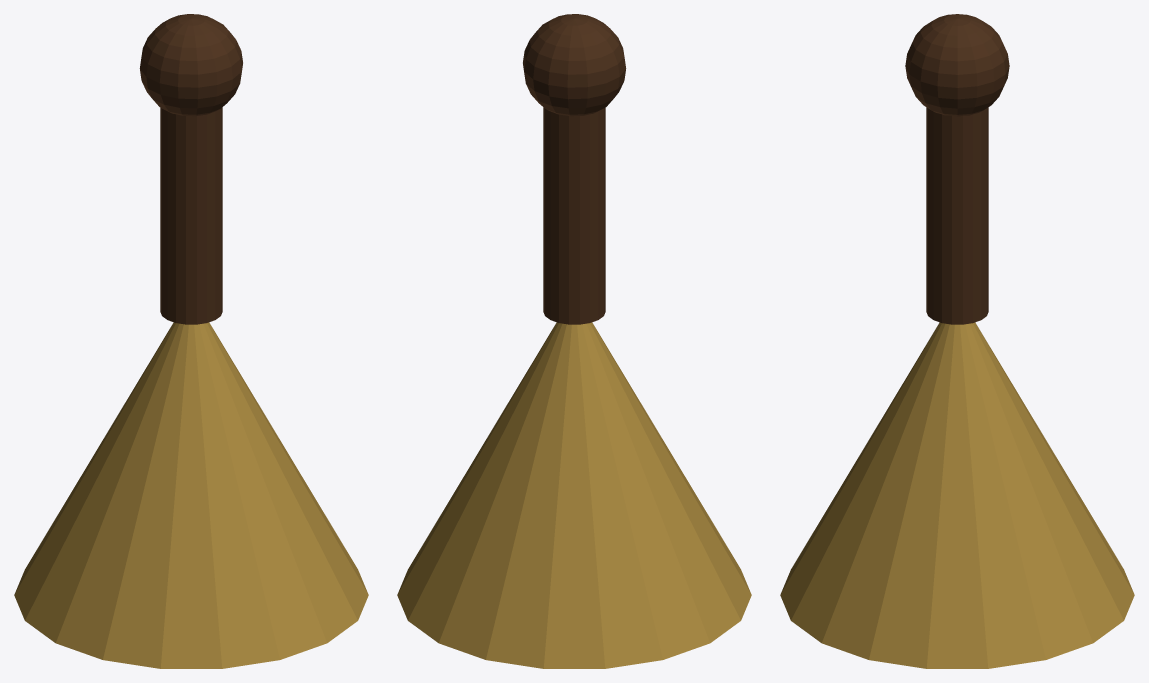
The model's file is handbell.5d91fcc4.glb.
3 views of the same model, side by side, from view 1: azimuth 30°, elevation 25°; view 2: azimuth 150°, elevation 25°; view 3: azimuth 270°, elevation 25° (orthographic).
Visible parts, largest first — view 1: body; view 2: body; view 3: body.
Part boxes in pixels (x1,y1,x2,y2): body: (14, 14, 368, 668); body: (397, 14, 751, 668); body: (780, 14, 1134, 668).
Bounding box in the file's own units: 0.3348 × 0.61 × 0.34.
